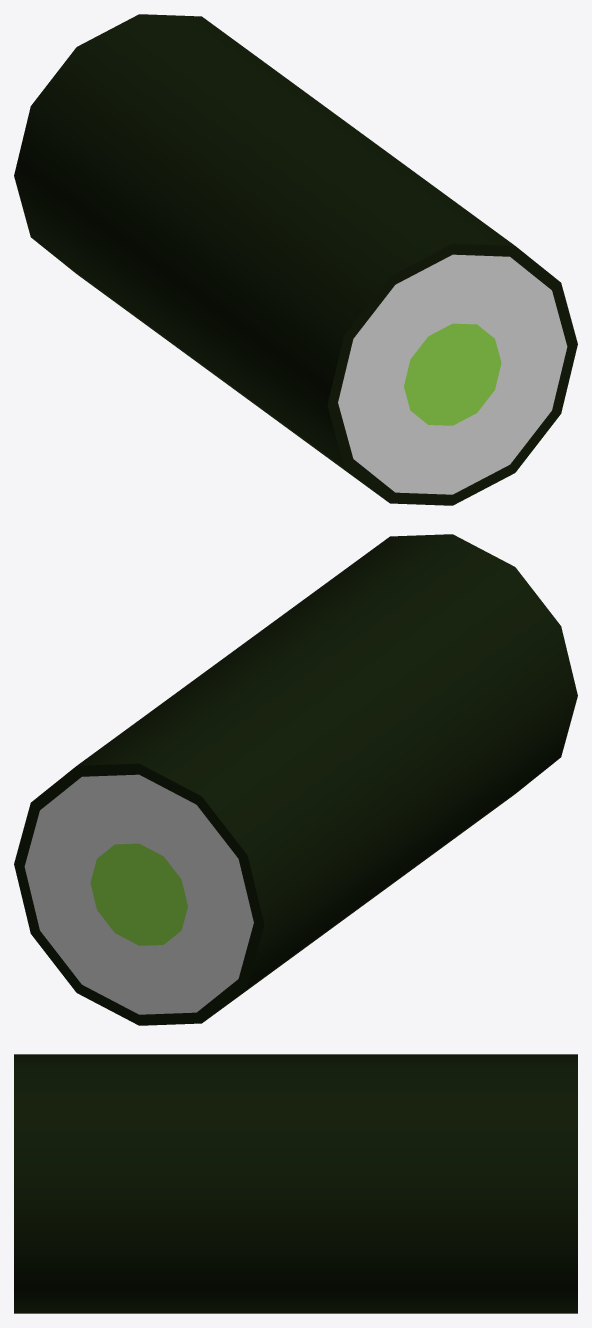
File: avocado_maki_roll.fbx
The picture shows the model from 3 angles, top to bottom: view 1: azimuth 30°, elevation 25°; view 2: azimuth 150°, elevation 25°; view 3: azimuth 270°, elevation 25°; orthographic projection. The views are drawn at different scales.
Parts seen in each view (by area): view 1: AvocadoMakiRoll; view 2: AvocadoMakiRoll; view 3: AvocadoMakiRoll.
Boxes of the visible parts, bbox=[...] form: AvocadoMakiRoll: bbox=[14, 14, 577, 505]; AvocadoMakiRoll: bbox=[14, 534, 577, 1025]; AvocadoMakiRoll: bbox=[14, 1054, 577, 1313].
Bounding box in the file's own units: 60 × 60 × 130.
